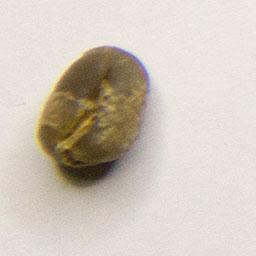peaberry: (34, 41, 153, 174)
